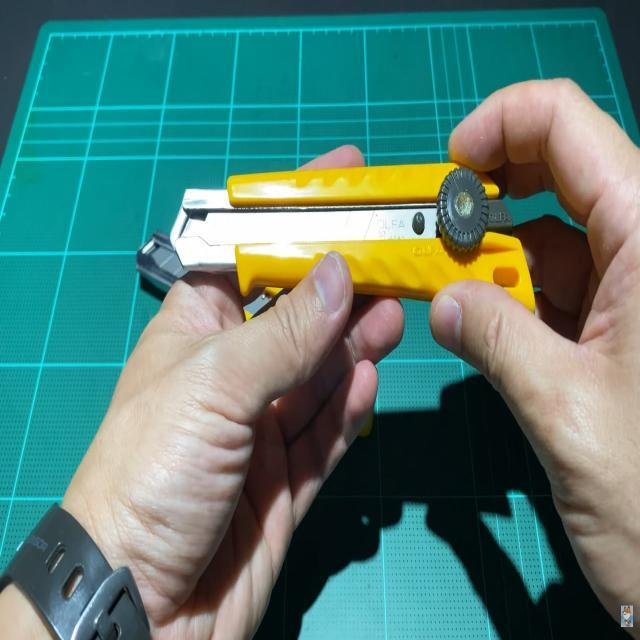cutter: (117, 58, 640, 444)
